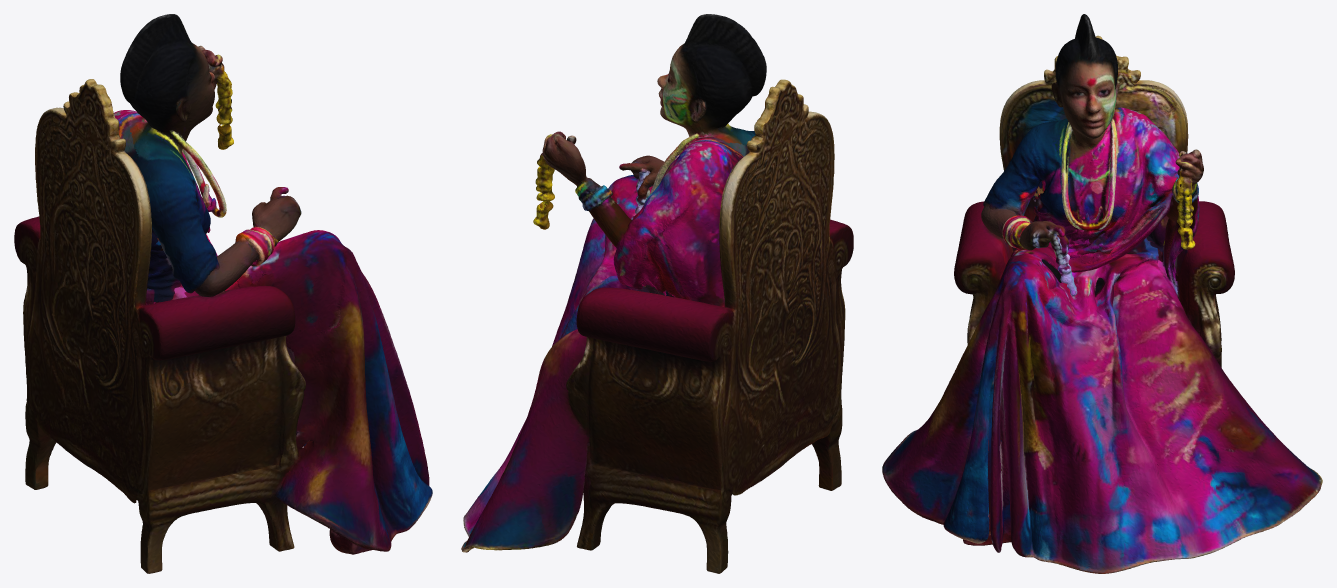
The model's file is modelo10.glb.
3 views of the same model, side by side, from view 1: azimuth 30°, elevation 25°; view 2: azimuth 150°, elevation 25°; view 3: azimuth 270°, elevation 25° (orthographic). The views are drawn at different scales.
Visible parts, largest first — view 1: tripo_node_24b46585-3b9d-4115-b970-8a7561a2ae37; view 2: tripo_node_24b46585-3b9d-4115-b970-8a7561a2ae37; view 3: tripo_node_24b46585-3b9d-4115-b970-8a7561a2ae37.
Part boxes in pixels (x1,y1,x2,y2): tripo_node_24b46585-3b9d-4115-b970-8a7561a2ae37: [14, 14, 432, 573]; tripo_node_24b46585-3b9d-4115-b970-8a7561a2ae37: [461, 14, 853, 573]; tripo_node_24b46585-3b9d-4115-b970-8a7561a2ae37: [882, 14, 1322, 573].
Bounding box in the file's own units: 0.5657 × 1 × 0.8529.
Materials: 1 (1 with a texture image).
